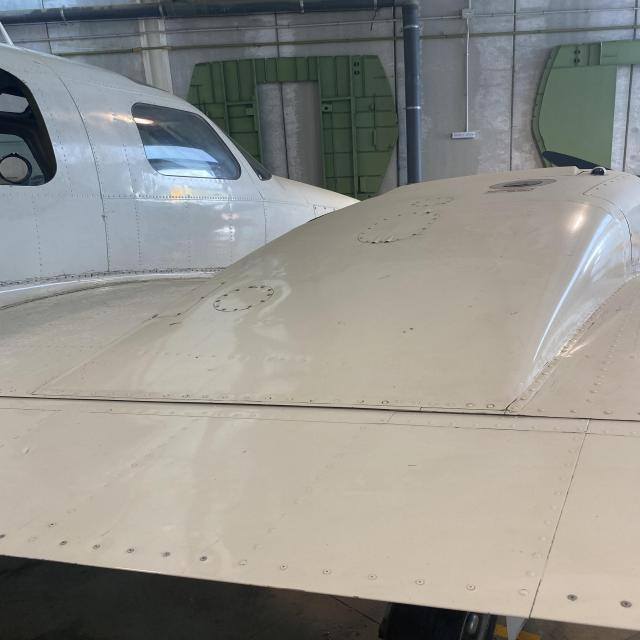Dent: (20, 443, 35, 458)
Rupture: (100, 270, 125, 275)
